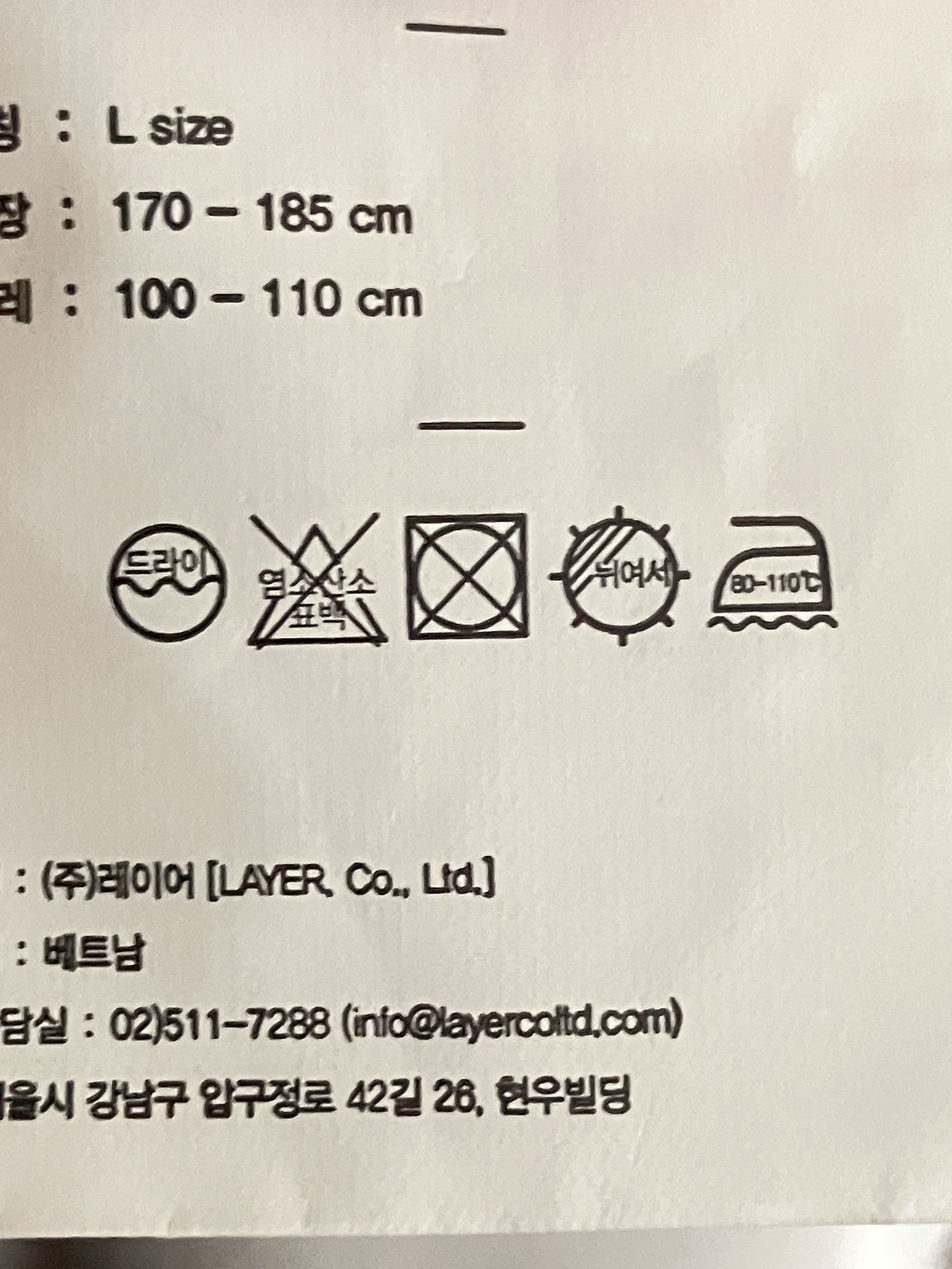KR_dry_clean: (99, 522, 229, 643)
KR_flat_dry_in_shade: (546, 497, 698, 653)
KR_iron_low_temp_with_cloth: (697, 502, 852, 641)
KR_no_bleach: (229, 500, 391, 650)
KR_no_tumble_dry: (389, 500, 541, 652)
